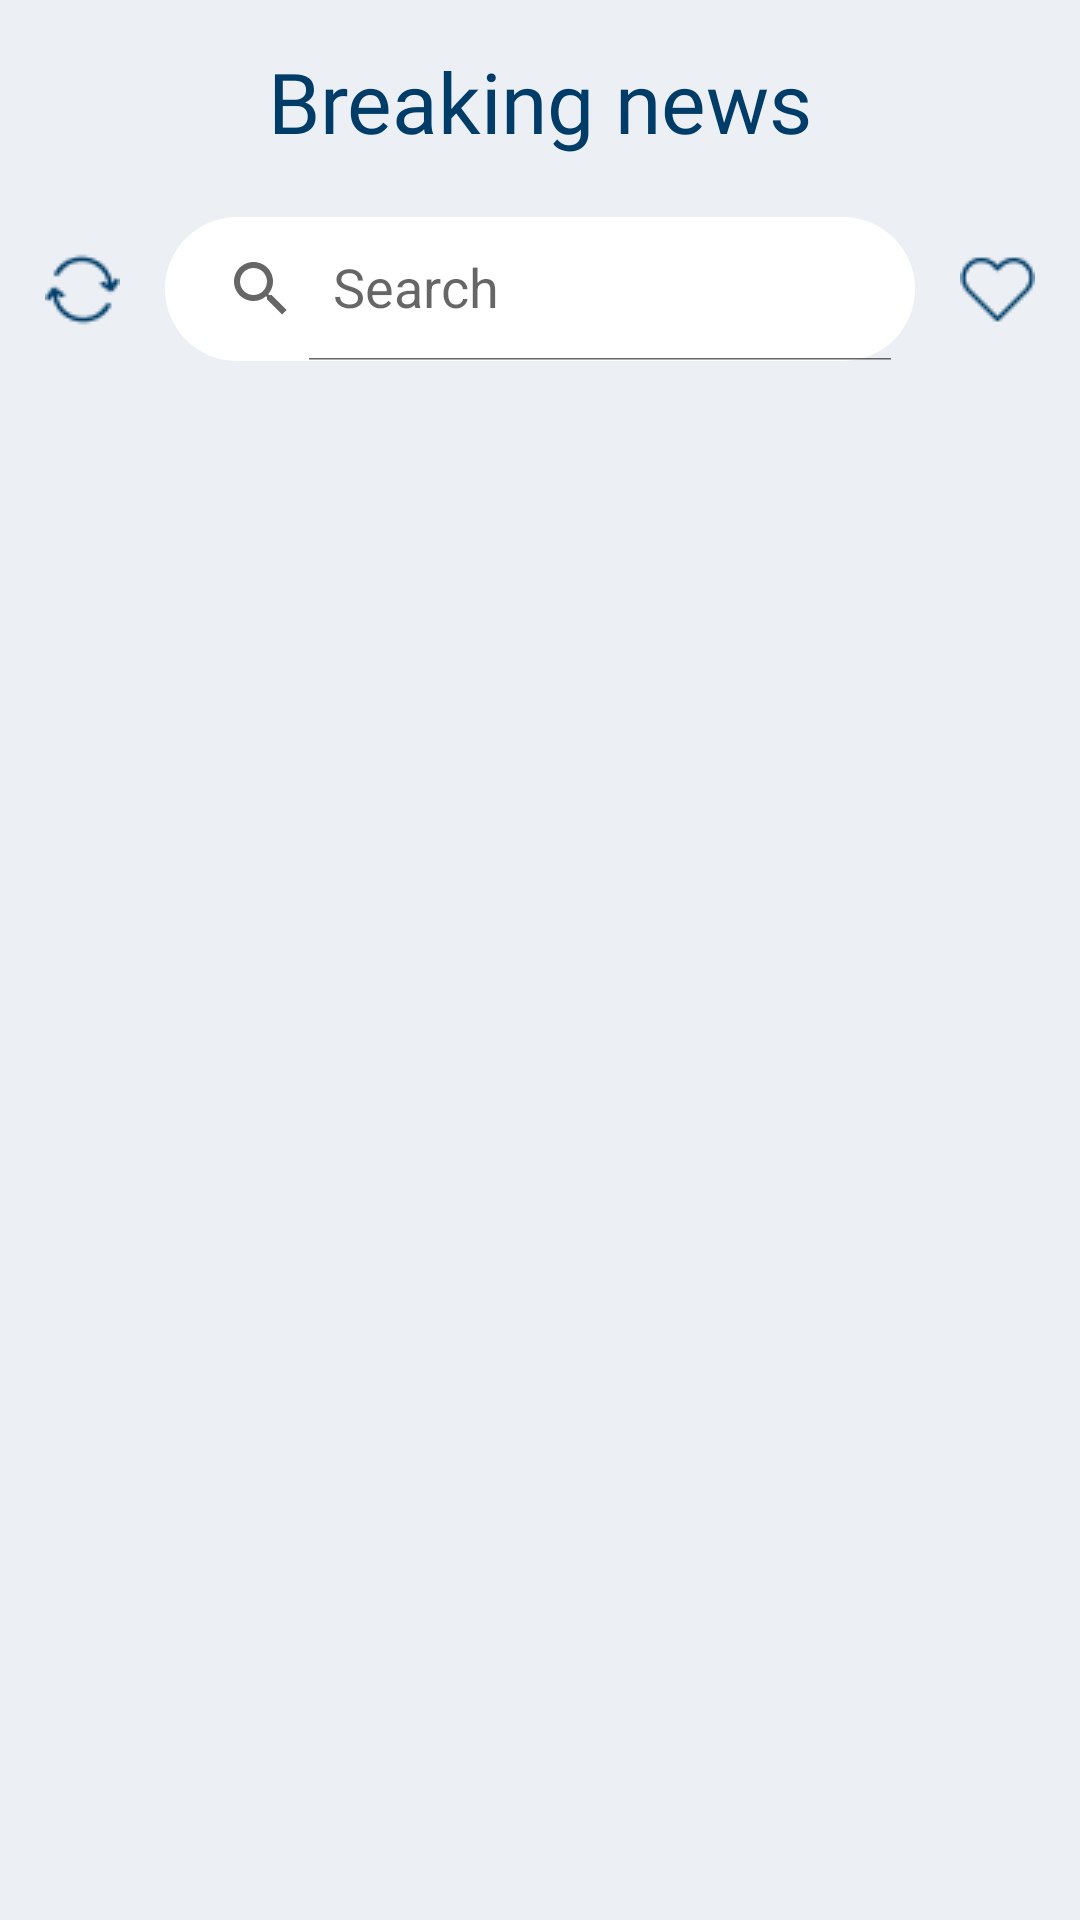

Screen size 1080 × 1920. Icon name, then its box in pixels as (x1, y1, x2, y2):
like: (960, 257, 1035, 322)
update: (45, 254, 120, 325)
